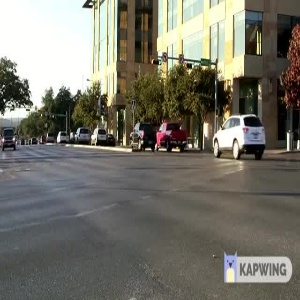suv: (203, 114, 274, 160), (86, 125, 112, 148), (71, 125, 93, 145)
truck: (120, 118, 158, 153), (154, 120, 191, 152)
